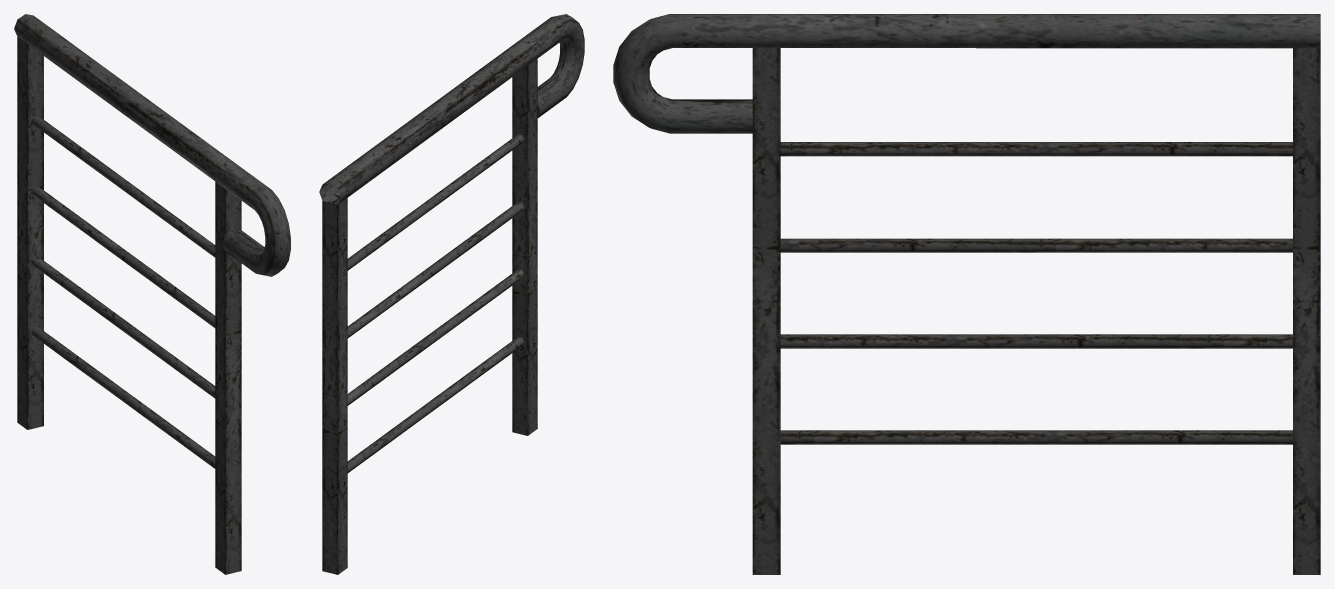
File: p6_blackout_rail_endcap_c_lod0.glb
The picture shows the model from 3 angles, left to right: view 1: azimuth 30°, elevation 25°; view 2: azimuth 150°, elevation 25°; view 3: azimuth 270°, elevation 25°; orthographic projection. The views are drawn at different scales.
Parts seen in each view (by area): view 1: surf0; view 2: surf0; view 3: surf0.
Boxes of the visible parts, left/top/right/bottom form: surf0: left=14, top=14, right=290, bottom=574; surf0: left=319, top=14, right=584, bottom=574; surf0: left=613, top=14, right=1320, bottom=574.
Size of the model in its own units: 2 by 33.59 by 38.8.
